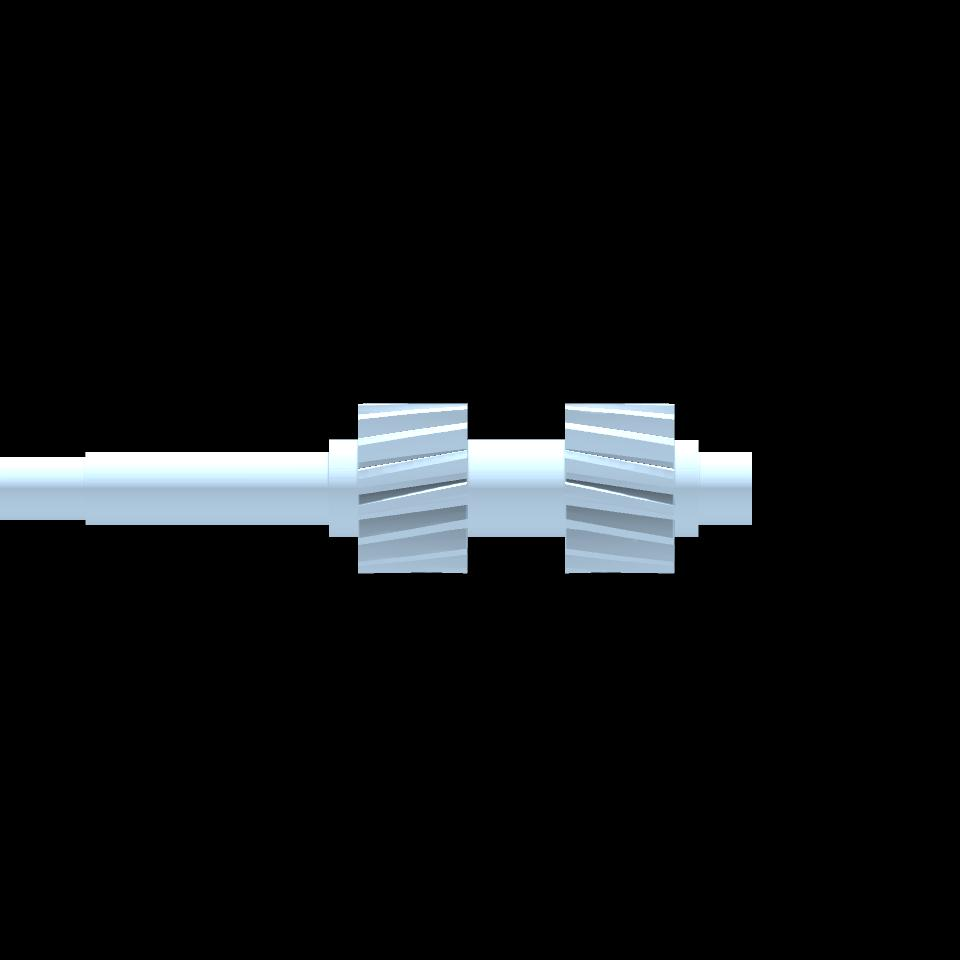Helical: (357, 403, 466, 574), (565, 404, 673, 574)
